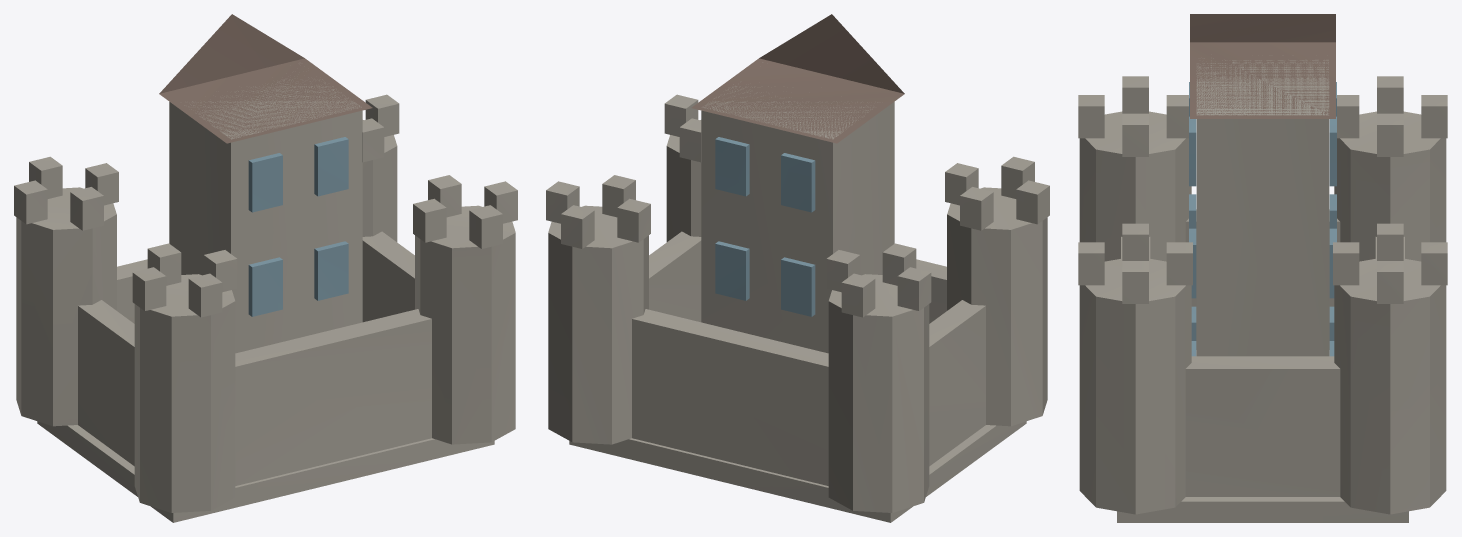
The model's file is castle-01.glb.
3 renders of one model, left to right at view 1: azimuth 30°, elevation 25°; view 2: azimuth 150°, elevation 25°; view 3: azimuth 270°, elevation 25°, orthographic. The views are drawn at different scales.
Visible parts, largest first — view 1: world; view 2: world; view 3: world.
Part boxes in pixels (bbox=[...]): world: bbox=[14, 14, 517, 522]; world: bbox=[546, 14, 1049, 522]; world: bbox=[1078, 14, 1447, 522].
Size of the model in its own units: 1.57 by 1.59 by 1.25.
